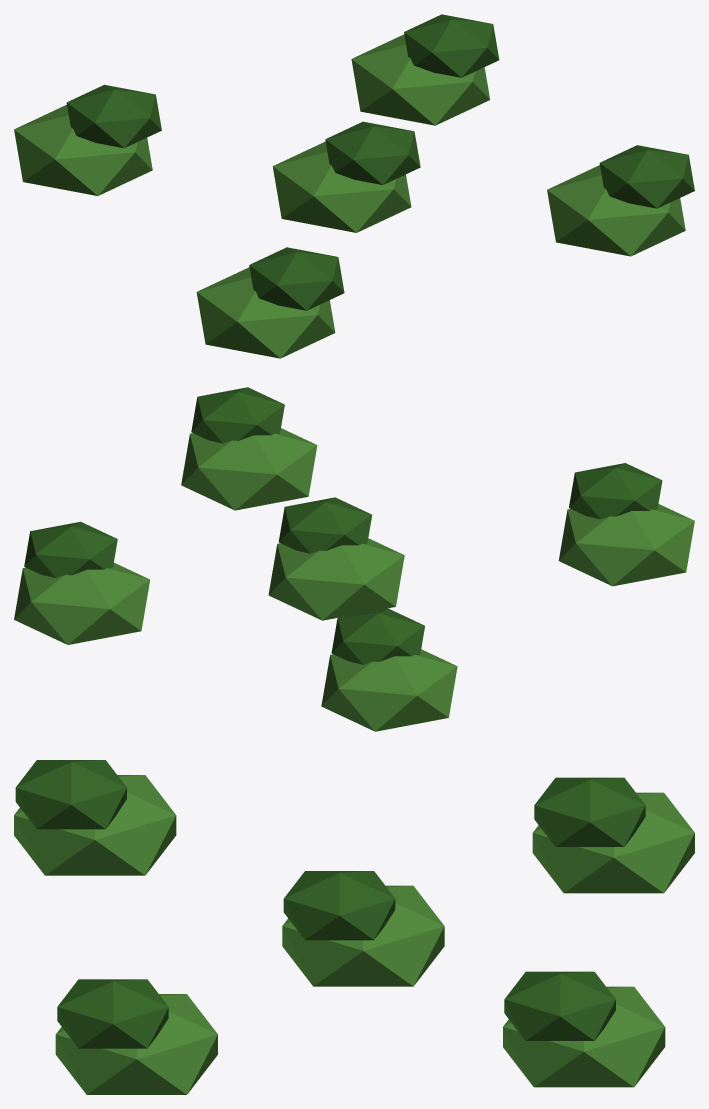
File: crop_potato_grown.glb
3 views of the same model, one above another, from view 1: azimuth 30°, elevation 25°; view 2: azimuth 150°, elevation 25°; view 3: azimuth 270°, elevation 25° (orthographic). The views are drawn at different scales.
Parts seen in each view (by area): view 1: crop_potato_grown; view 2: crop_potato_grown; view 3: crop_potato_grown.
Boxes of the visible parts, x1,y1,x2,y2 form: crop_potato_grown: [14, 14, 694, 358]; crop_potato_grown: [14, 387, 694, 731]; crop_potato_grown: [14, 760, 694, 1094].
Bounding box in the file's own units: 1.16 × 0.2285 × 1.14.
